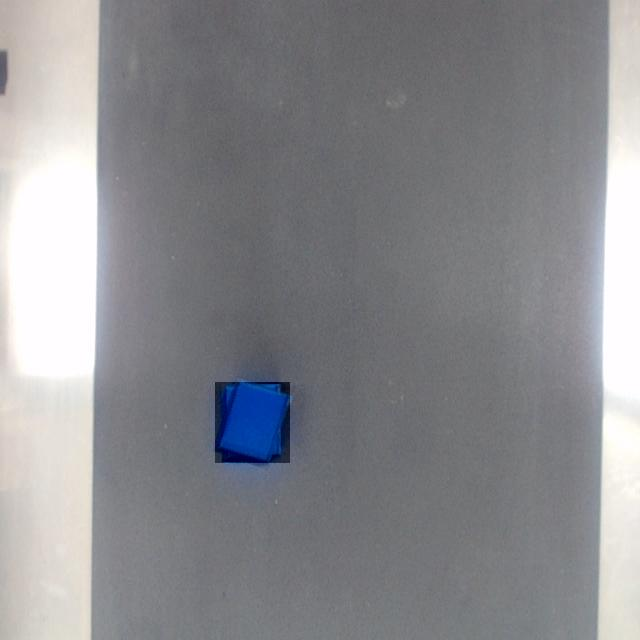Azul: (215, 383, 290, 463)
